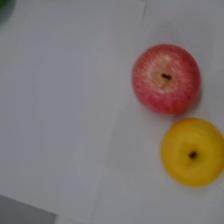red: (130, 43, 200, 115)
yellow: (159, 116, 224, 188)
